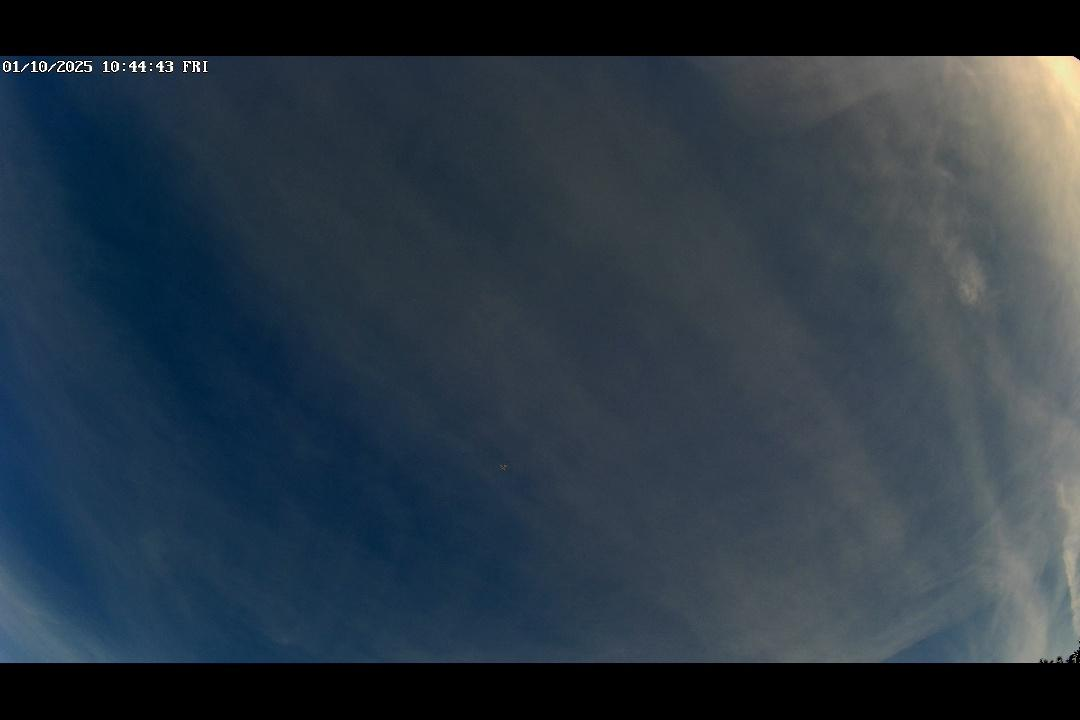Plane: (496, 461, 512, 473)
